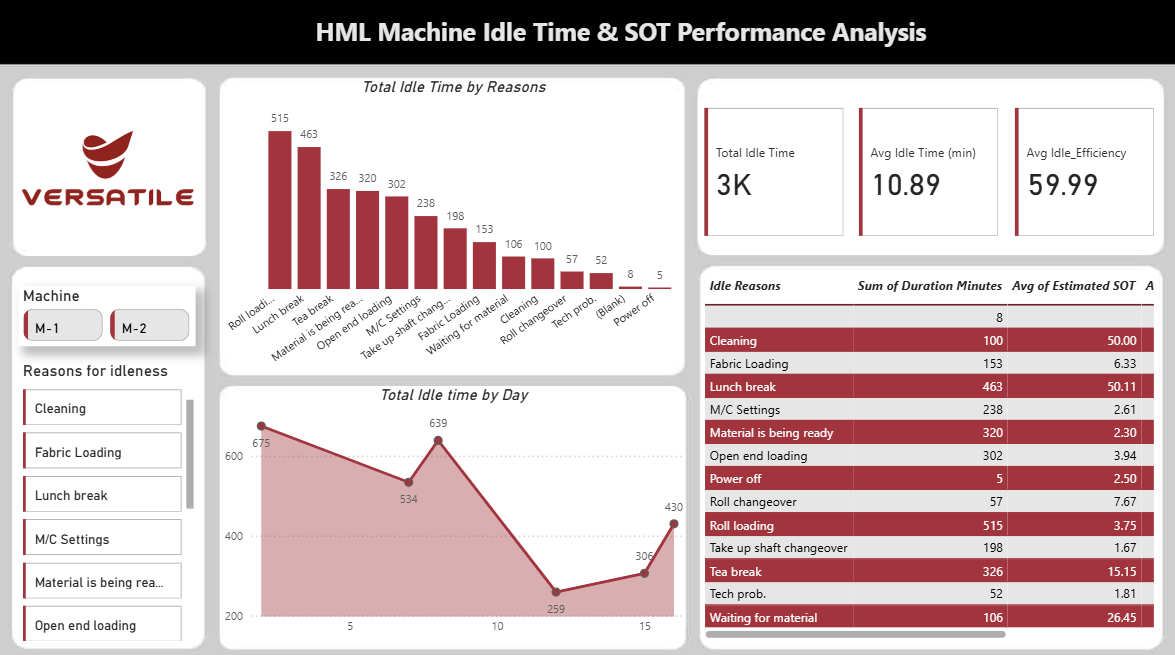

This screenshot's page, from the dashboard's own definition file:
{"tool":"powerbi","page":{"name":"Page 1","canvas":[1280,720],"ordinal":0},"visuals":[{"type":"image","box":[18.9,86.9,196.5,196.5],"z":0},{"type":"textbox","box":[338.3,13.2,750.2,51],"z":1000},{"type":"clusteredColumnChart","fields":{"Category":["SOT.Remarks"],"Y":["Sum(SOT.Duration_Minutes)"]},"box":[239.1,86.2,507.5,322.1],"z":2000},{"type":"advancedSlicerVisual","fields":{"Values":["SOT.Machine"]},"box":[21.1,312.3,191.9,65.1],"z":3000},{"type":"advancedSlicerVisual","fields":{"Values":["SOT.Remarks"]},"box":[21.1,393.6,195.2,305.8],"z":4000},{"type":"cardVisual","fields":{"Data":["SOT.Avg Idle Time (min)"]},"box":[927.1,113.9,161,149.6],"z":5000},{"type":"cardVisual","fields":{"Data":["Avg(SOT.Idle_Efficiency_%)"]},"box":[1096.3,113.9,161,149.6],"z":6000},{"type":"cardVisual","fields":{"Data":["Sum(SOT.Duration_Minutes)"]},"box":[759.6,113.9,161,149.6],"z":7000},{"type":"lineChart","fields":{"Category":["SOT.Date.Variation.Date Hierarchy.Day"],"Y":["Sum(SOT.Duration_Minutes)"]},"box":[239.1,419.6,507.5,279.8],"z":7001},{"type":"tableEx","fields":{"Values":["SOT.Remarks","Sum(SOT.Duration_Minutes)","Avg(SOT.Estimated_Idle_SOT_Minutes)","Avg(SOT.Idle_Deviation_Min)","Avg(SOT.Idle_Efficiency_%)"]},"box":[759.6,294.4,497.7,405],"z":7002}]}

Visuals, with their boxes in screenshot pixels (x1, y1, x2, y2), scaled from the page's 1280x720 canvas onto the 1175x655 screenshot:
image: box(17, 79, 198, 258)
textbox: box(311, 12, 999, 58)
clusteredColumnChart - SOT.Remarks x Sum(SOT.Duration_Minutes): box(219, 78, 685, 371)
advancedSlicerVisual - SOT.Machine: box(19, 284, 196, 343)
advancedSlicerVisual - SOT.Remarks: box(19, 358, 199, 636)
cardVisual - SOT.Avg Idle Time (min): box(851, 104, 999, 240)
cardVisual - Avg(SOT.Idle_Efficiency_%): box(1006, 104, 1154, 240)
cardVisual - Sum(SOT.Duration_Minutes): box(697, 104, 845, 240)
lineChart - SOT.Date.Variation.Date Hierarchy.Day x Sum(SOT.Duration_Minutes): box(219, 382, 685, 636)
tableEx - SOT.Remarks x Sum(SOT.Duration_Minutes): box(697, 268, 1154, 636)
